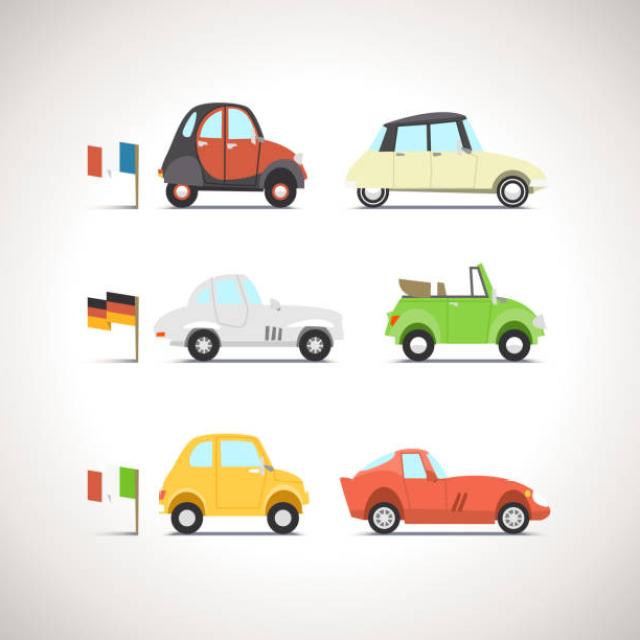Car: (346, 110, 548, 208), (340, 446, 551, 534), (154, 273, 345, 361), (385, 262, 547, 361), (158, 102, 307, 208), (159, 432, 309, 534)
